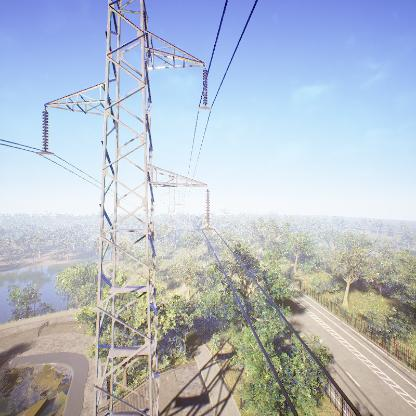tower: (35, 0, 218, 416)
